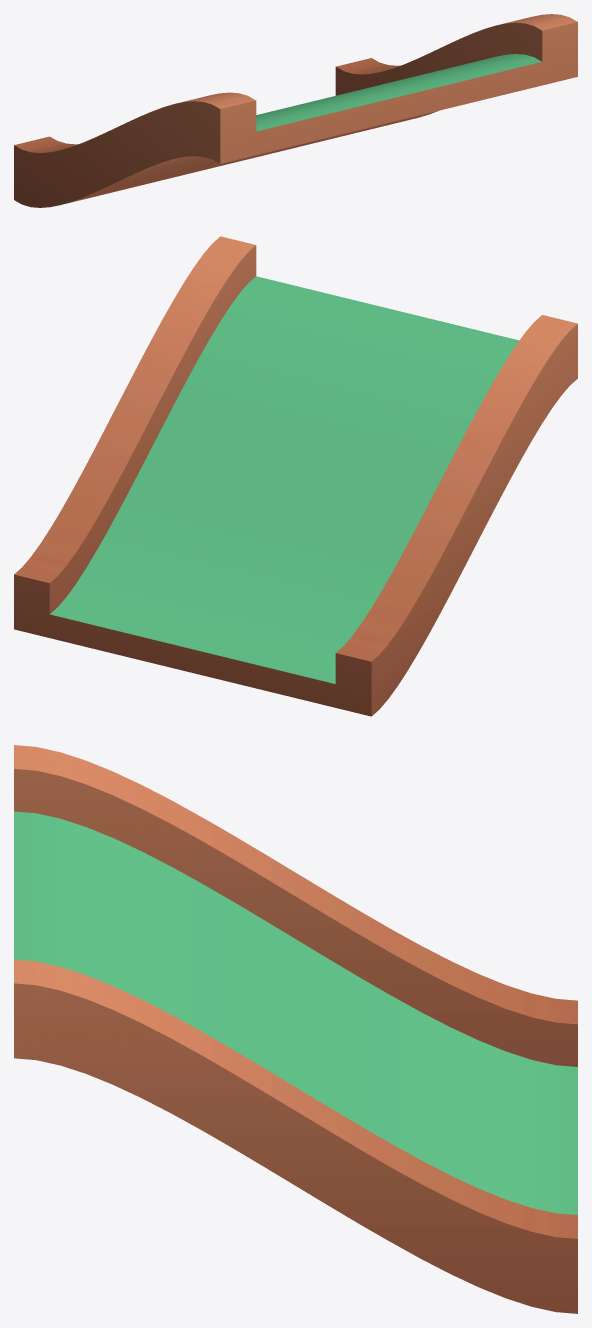
The model's file is ramp.glb.
The picture shows the model from 3 angles, top to bottom: view 1: azimuth 30°, elevation 25°; view 2: azimuth 150°, elevation 25°; view 3: azimuth 270°, elevation 25°; orthographic projection. The views are drawn at different scales.
Visible parts, largest first — view 1: ramp; view 2: ramp; view 3: ramp.
Part boxes in pixels (<box>): ramp: <box>14,14,577,207</box>; ramp: <box>14,236,577,716</box>; ramp: <box>14,745,577,1313</box>.
Bounding box in the file's own units: 0.9999 × 0.6466 × 0.9999.
Materials: 1 (1 with a texture image).
